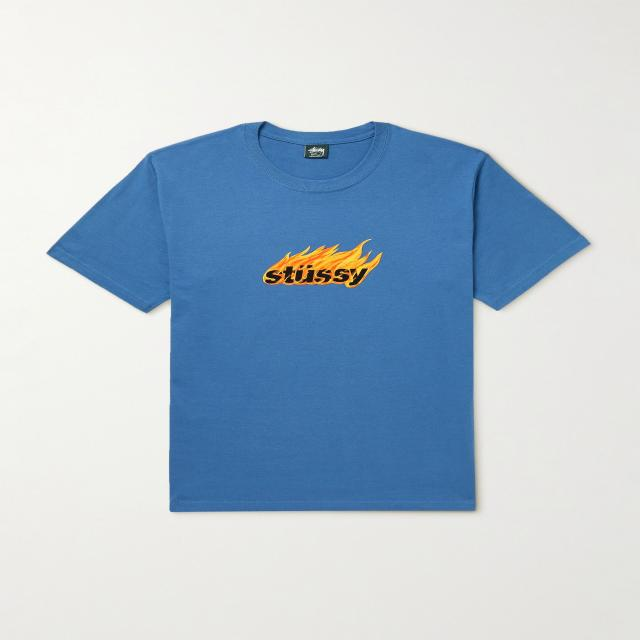tshirt: (45, 120, 592, 515)
